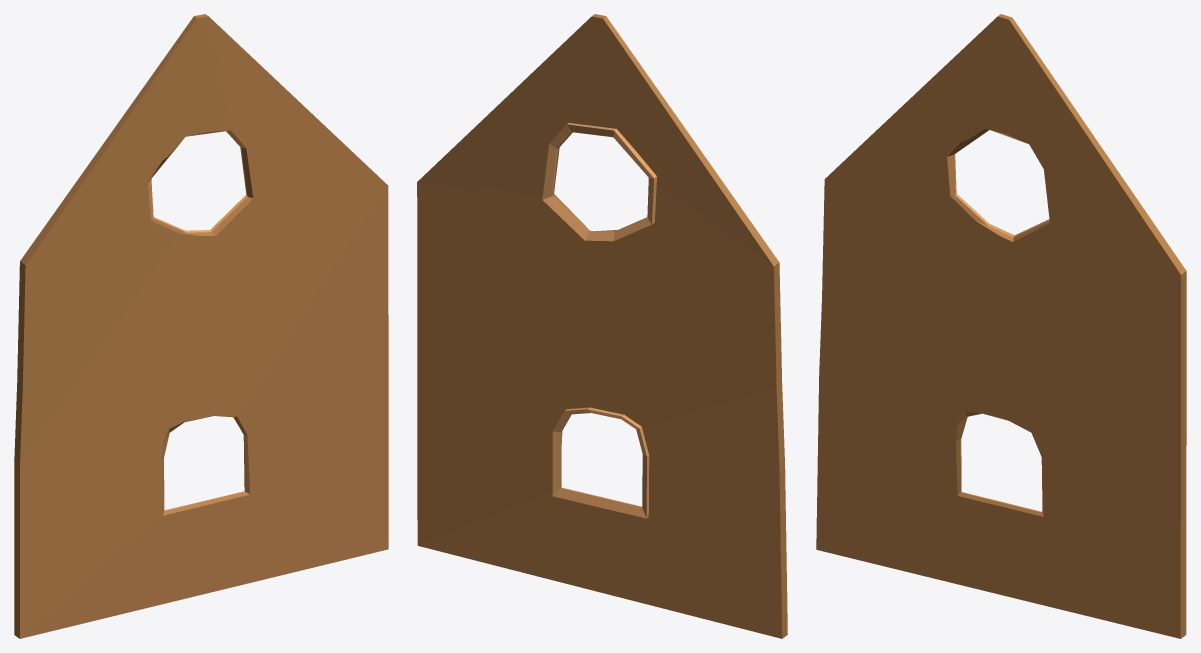
Rendered from BirdHouse_Wall-B.fbx.
3 views of the same model, side by side, from view 1: azimuth 30°, elevation 25°; view 2: azimuth 150°, elevation 25°; view 3: azimuth 330°, elevation 25° (orthographic).
Visible parts, largest first — view 1: Rückseite; view 2: Rückseite; view 3: Rückseite.
Part boxes in pixels (x1,y1,x2,y2): Rückseite: [14, 14, 388, 638]; Rückseite: [417, 14, 787, 638]; Rückseite: [816, 14, 1186, 638].
Size of the model in its own units: 624 by 936 by 27.49.
